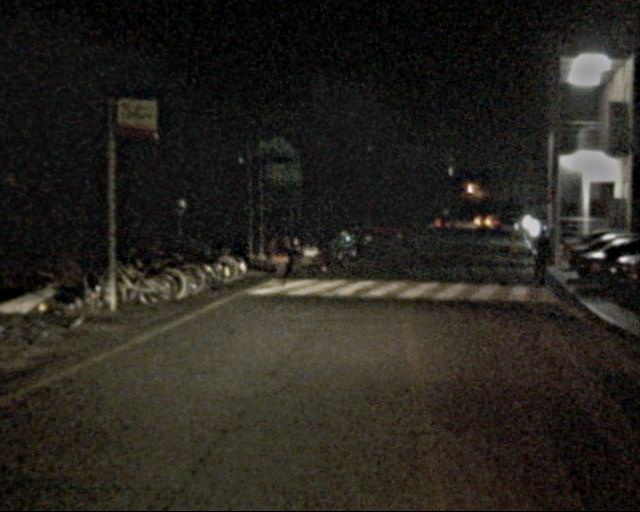person: (264, 223, 291, 290), (526, 230, 552, 294), (312, 221, 332, 270)
